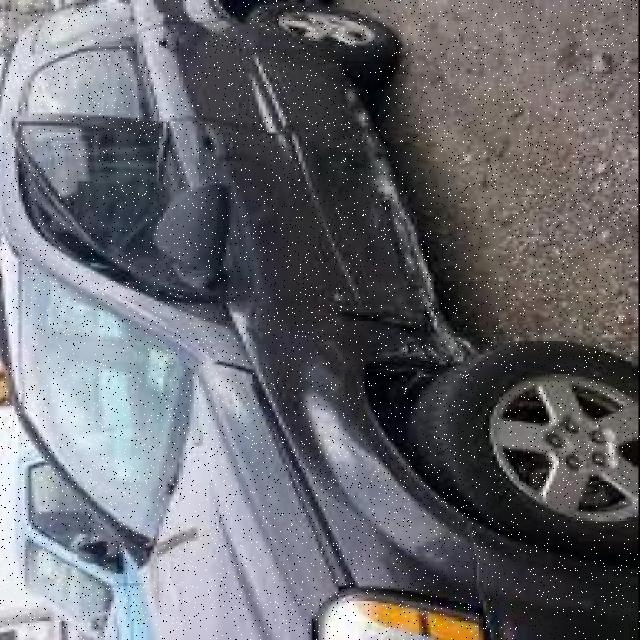damage: (249, 66, 476, 388)
